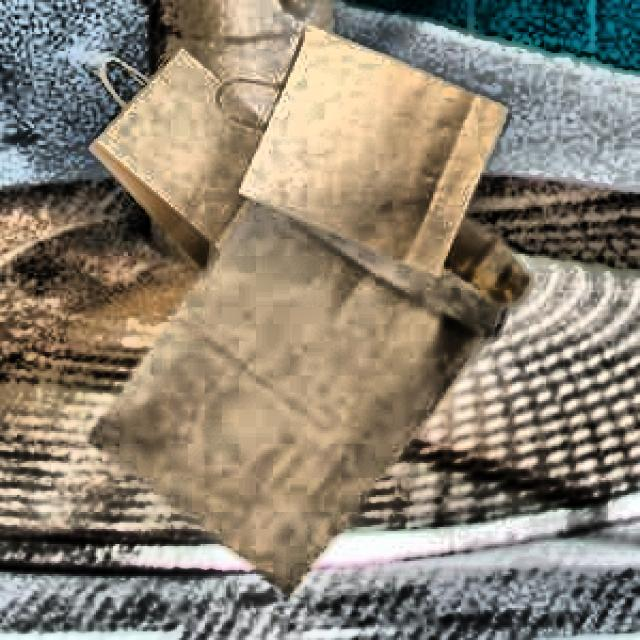Paper-bag: (55, 21, 520, 608)
